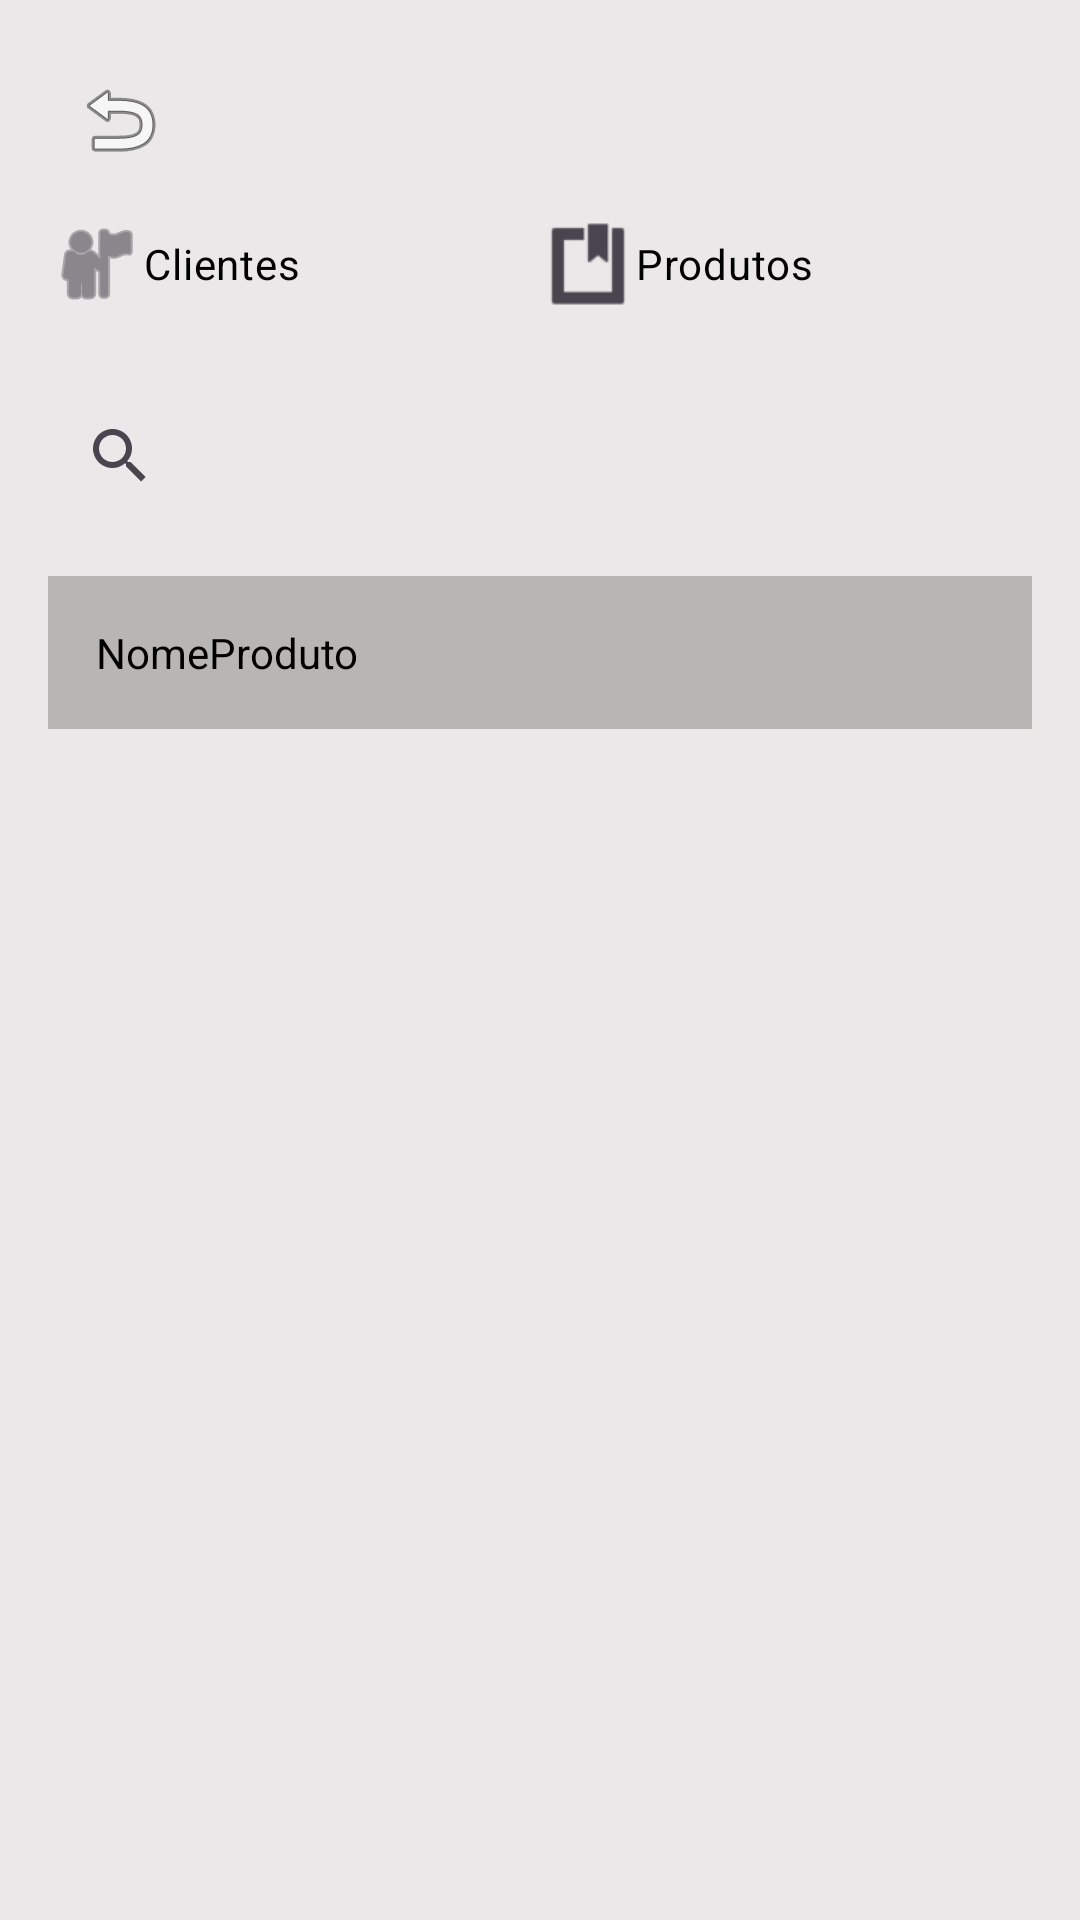

Named icons in this screenshot (1080 × 1920) and their bounding boxes, (x1, y1, x2, y2):
Voltar: (87, 89, 156, 152)
